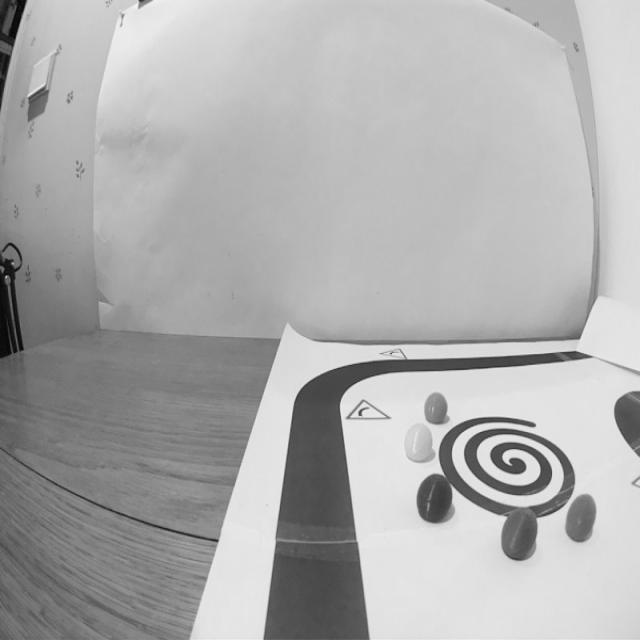ball: (493, 502, 542, 564), (413, 469, 454, 532), (560, 488, 602, 547), (402, 419, 436, 465), (422, 388, 450, 428)
lineStraight: (257, 550, 377, 640)
nest: (437, 408, 580, 520)
